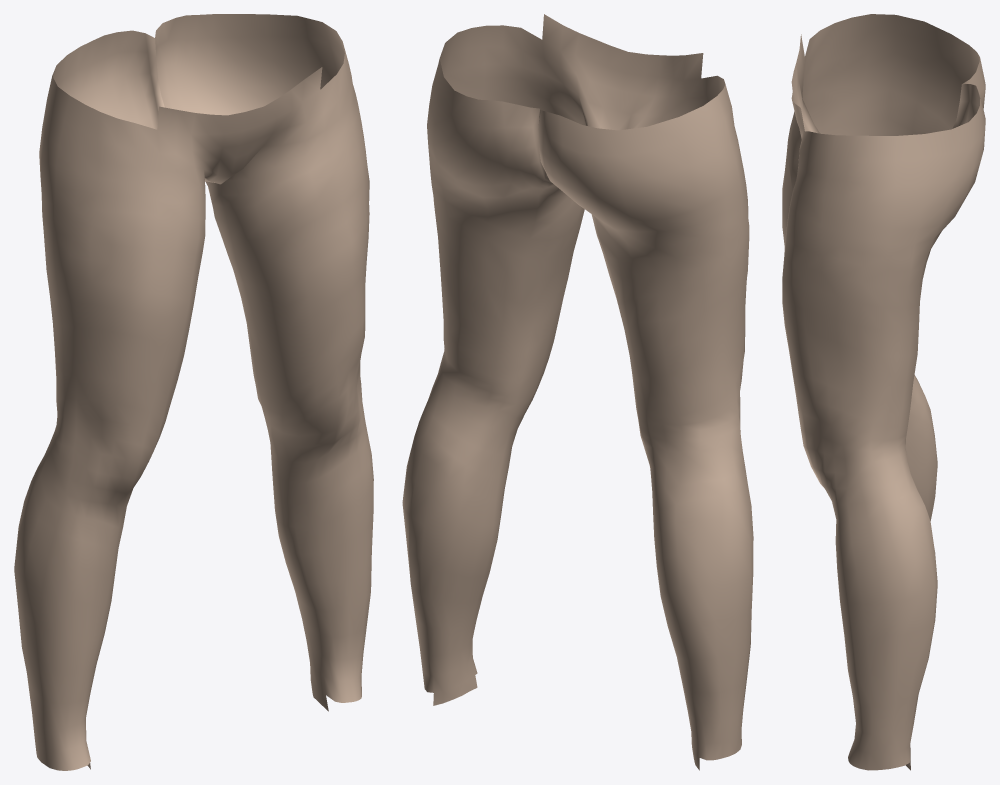
The model's file is female_jeans_template.glb.
3 views of the same model, side by side, from view 1: azimuth 30°, elevation 25°; view 2: azimuth 150°, elevation 25°; view 3: azimuth 270°, elevation 25° (orthographic). The views are drawn at different scales.
Parts seen in each view (by area): view 1: Female_Jeans_Template; view 2: Female_Jeans_Template; view 3: Female_Jeans_Template.
Boxes of the visible parts, box(x1,y1,x2,y2) form: Female_Jeans_Template: box(14, 14, 373, 770); Female_Jeans_Template: box(402, 14, 753, 770); Female_Jeans_Template: box(782, 14, 985, 770).
Size of the model in its own units: 41.46 by 77.59 by 22.46.
